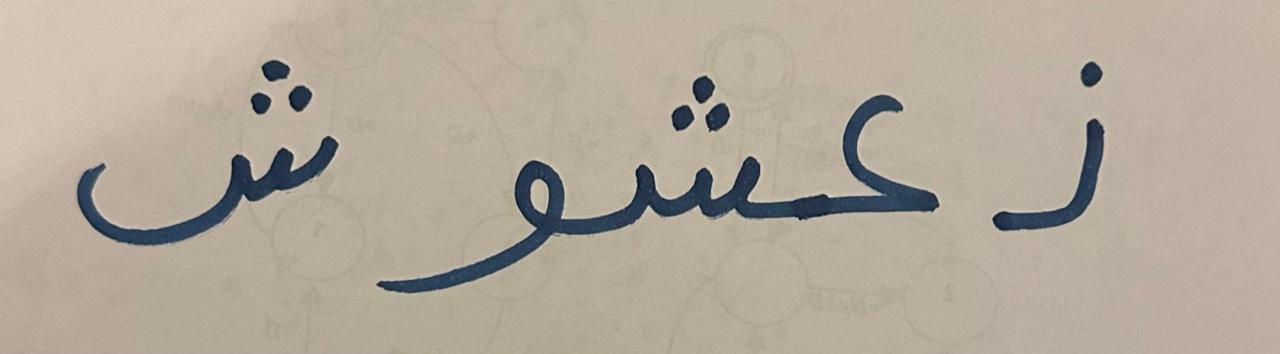ain: (967, 13, 1198, 295), (782, 17, 965, 289)
tah: (40, 9, 363, 290), (592, 12, 779, 283)
yeh: (367, 74, 588, 324)
